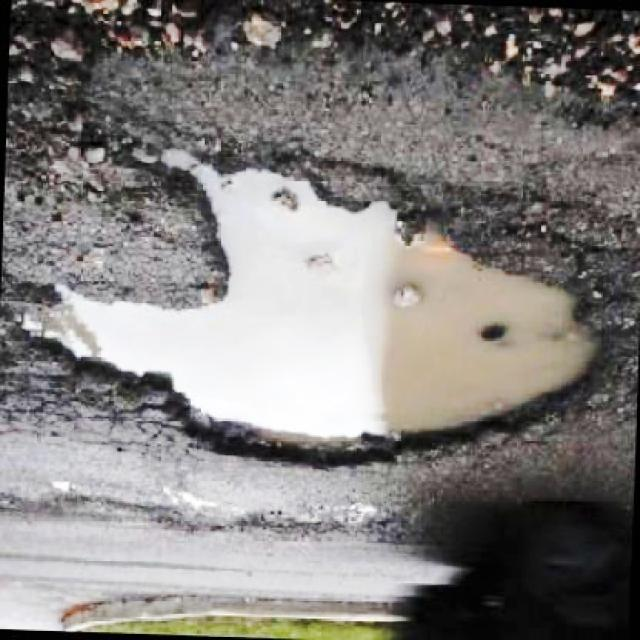pothole: (0, 124, 617, 470)
